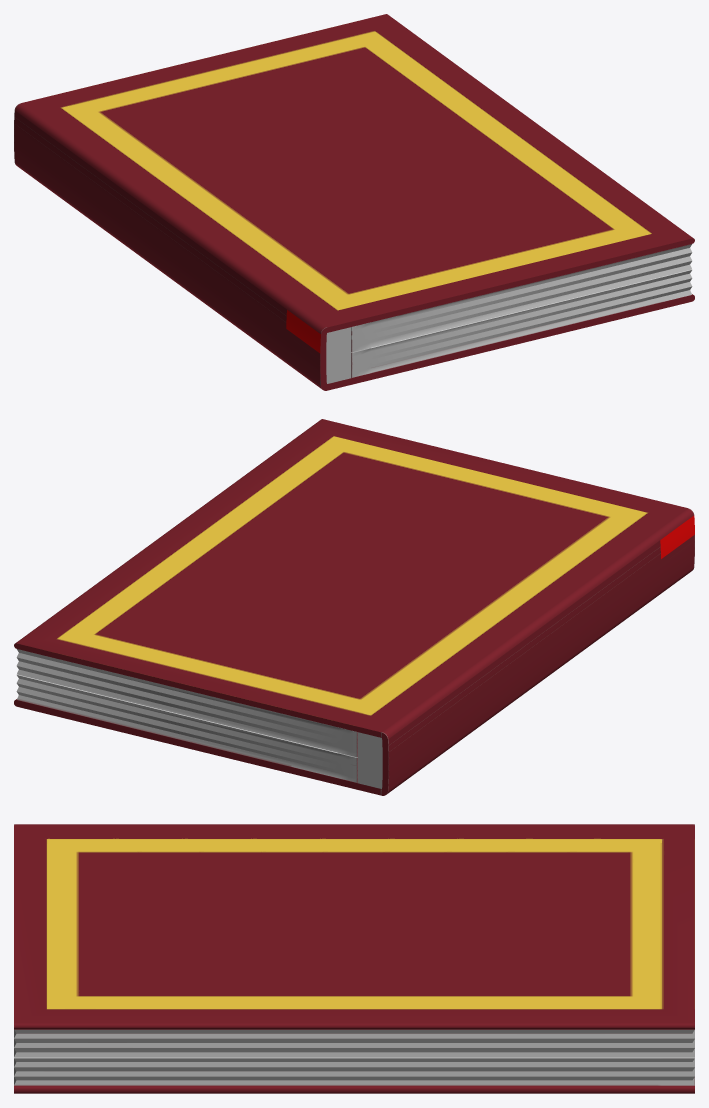
Rendered from GreenBook.fbx.
3 views of the same model, one above another, from view 1: azimuth 30°, elevation 25°; view 2: azimuth 150°, elevation 25°; view 3: azimuth 270°, elevation 25° (orthographic). The views are drawn at different scales.
Parts seen in each view (by area): view 1: GreenBook-1; view 2: GreenBook-1; view 3: GreenBook-1.
Boxes of the visible parts, x1,y1,x2,y2 form: GreenBook-1: [14, 14, 694, 390]; GreenBook-1: [14, 419, 694, 795]; GreenBook-1: [14, 824, 694, 1093].
Bounding box in the file's own units: 142 × 22.97 × 202.
